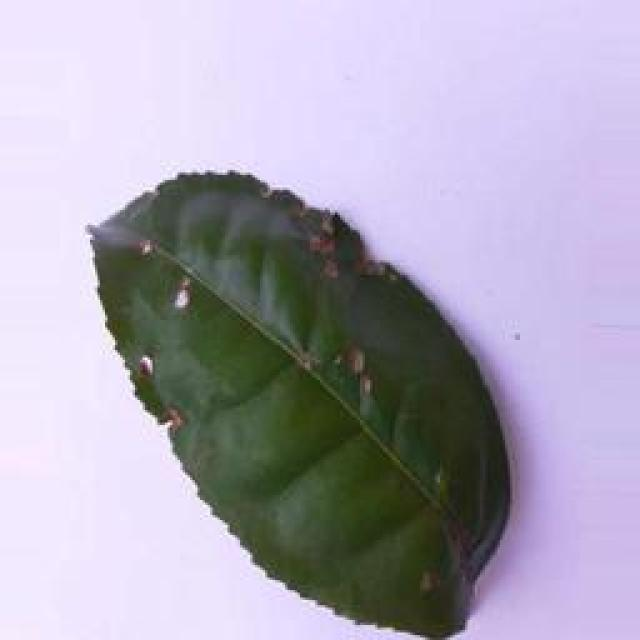Helopeltis: (74, 170, 518, 640)
